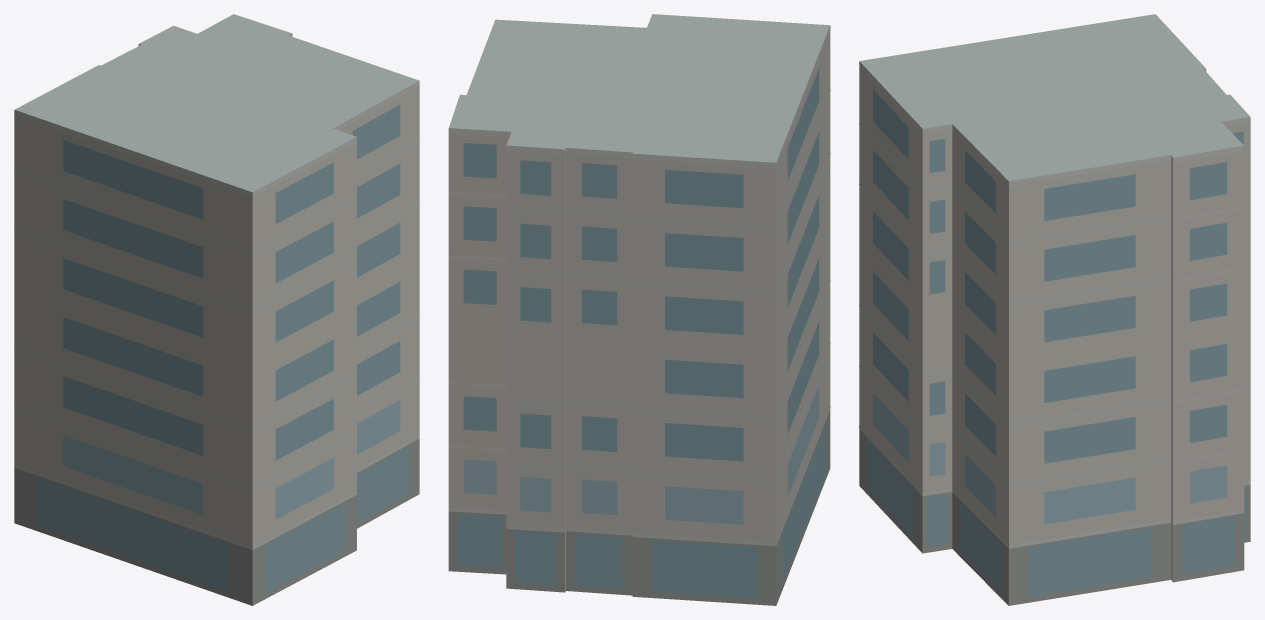
Rendered from survey-upis-32698435.glb.
3 views of the same model, side by side, from view 1: azimuth 30°, elevation 25°; view 2: azimuth 150°, elevation 25°; view 3: azimuth 270°, elevation 25° (orthographic). The views are drawn at different scales.
Parts seen in each view (by area): view 1: survey-upis-32698435.tmp; view 2: survey-upis-32698435.tmp; view 3: survey-upis-32698435.tmp.
Part boxes in pixels (bbox=[...]): survey-upis-32698435.tmp: bbox=[14, 14, 419, 605]; survey-upis-32698435.tmp: bbox=[448, 14, 830, 605]; survey-upis-32698435.tmp: bbox=[859, 14, 1250, 605].
Bounding box in the file's own units: 17.08 × 20.2 × 16.9.
